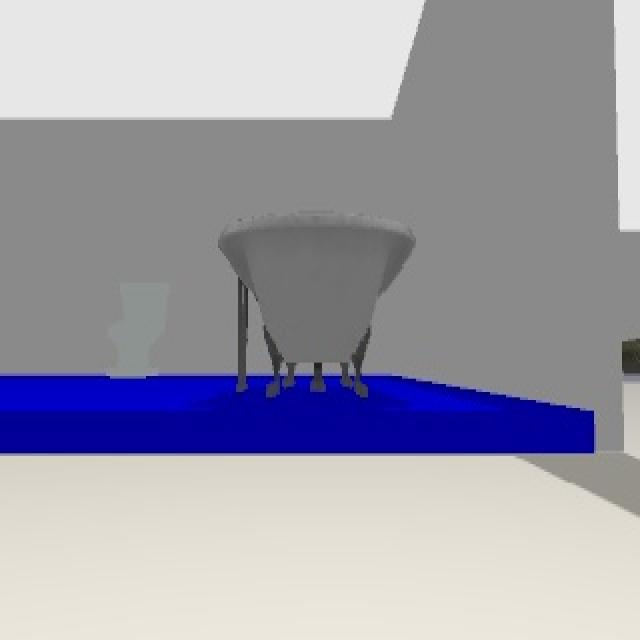bathtub: (215, 208, 418, 402)
